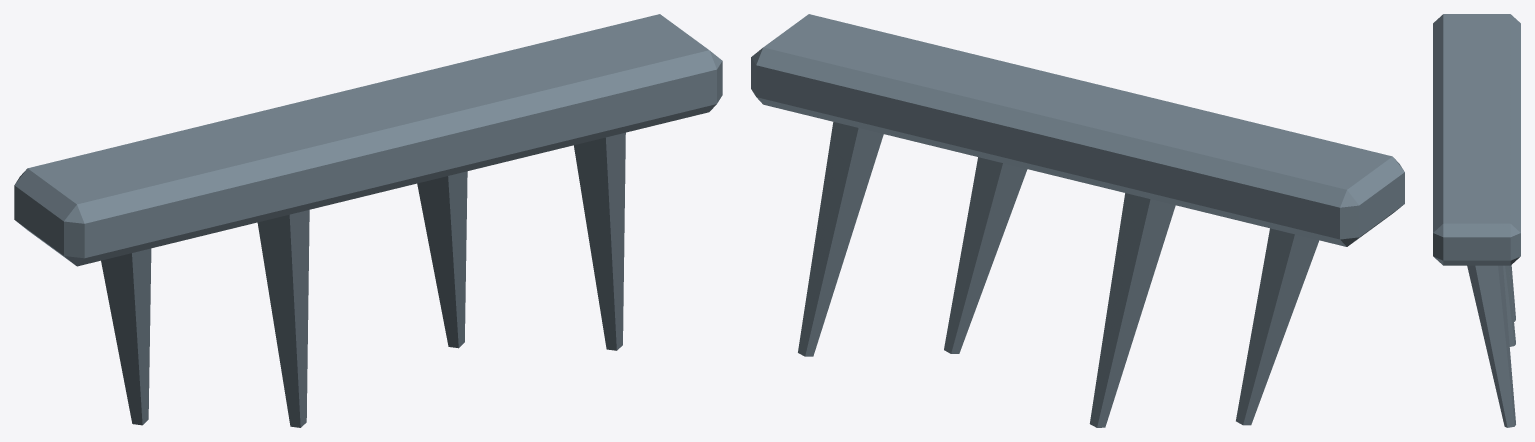
Rendered from beira_reta.glb.
3 views of the same model, side by side, from view 1: azimuth 30°, elevation 25°; view 2: azimuth 150°, elevation 25°; view 3: azimuth 270°, elevation 25° (orthographic). The views are drawn at different scales.
Visible parts, largest first — view 1: neve_beira_reta; view 2: neve_beira_reta; view 3: neve_beira_reta.
Boxes of the visible parts, x1,y1,x2,y2 form: neve_beira_reta: (14, 14, 722, 427); neve_beira_reta: (751, 14, 1404, 427); neve_beira_reta: (1433, 14, 1520, 427).
Size of the model in its own units: 1 by 0.4671 by 0.17.
